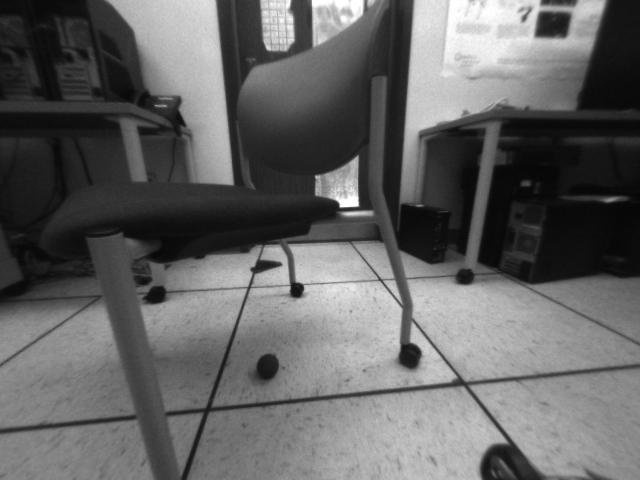dogtoy: (248, 344, 284, 385)
